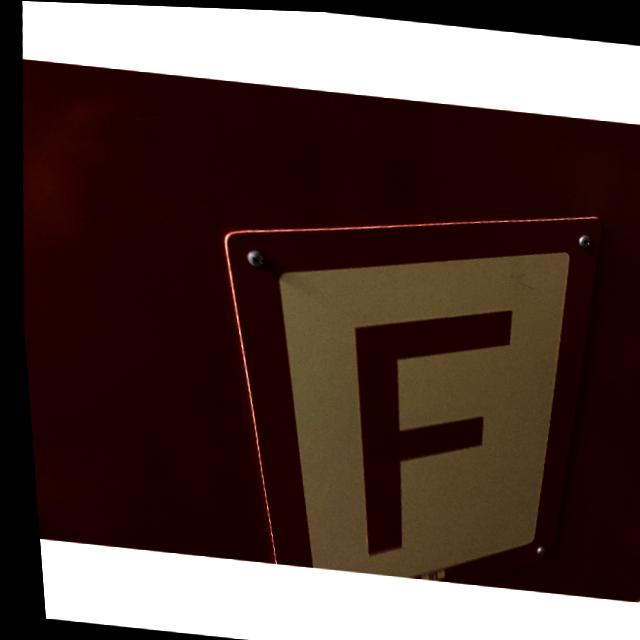fire extinguisher: (194, 174, 619, 594)
